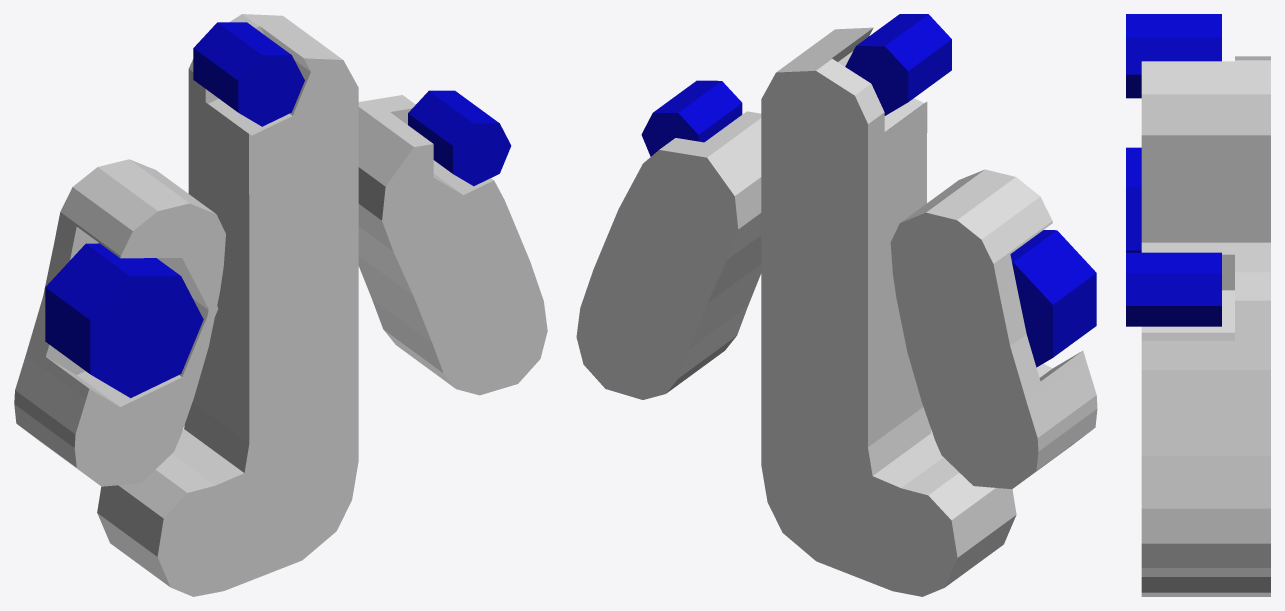
Rendered from Ch_Lite_China_小_01.fbx.
3 renders of one model, left to right at view 1: azimuth 30°, elevation 25°; view 2: azimuth 150°, elevation 25°; view 3: azimuth 270°, elevation 25°, orthographic. The views are drawn at different scales.
Visible parts, largest first — view 1: sphere1; view 2: sphere1; view 3: sphere1.
Part boxes in pixels (bbox=[...]): sphere1: bbox=[14, 14, 547, 596]; sphere1: bbox=[576, 14, 1097, 596]; sphere1: bbox=[1126, 14, 1270, 596].
Bounding box in the file's own units: 0.9033 × 0.974 × 0.2242.
